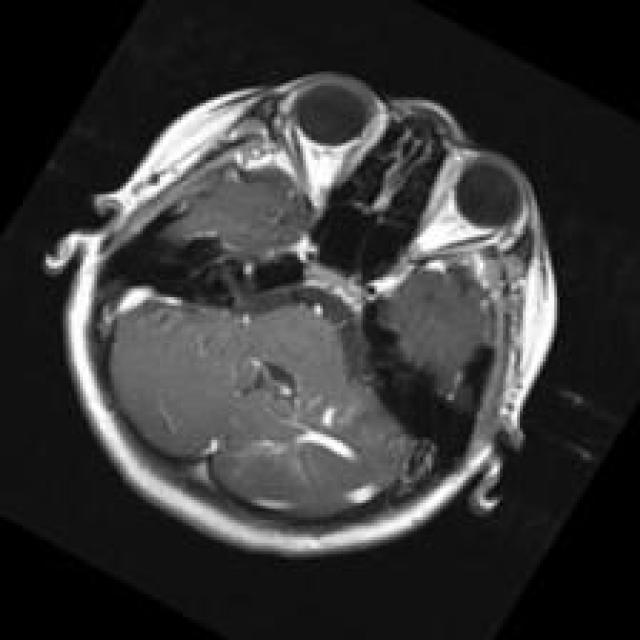no_tumor: (46, 65, 570, 557)
